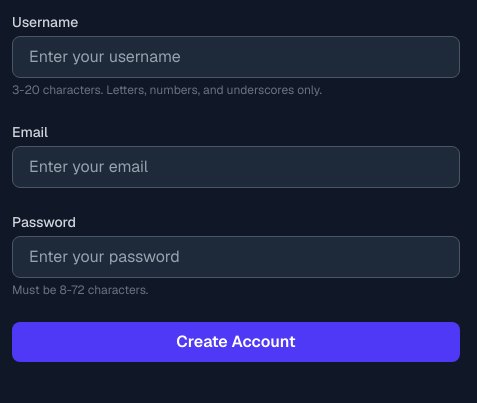
Scenario: RegisterForm › displays username-specific error from a 409 server response
Type "takenuser" into the field labelled "Username" at (236, 57), box left=12, top=36, right=460, bottom=78
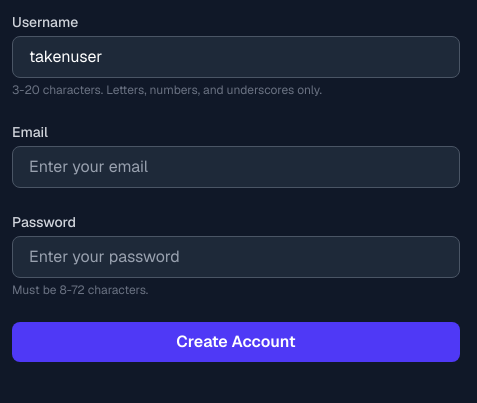
Type "new@example.com" into the field labelled "Email" at (236, 167), box left=12, top=146, right=460, bottom=188
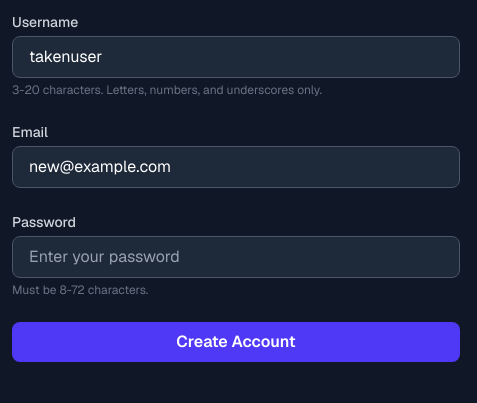
Type "password123" into the password field labelled "Password" at (236, 257), box left=12, top=236, right=460, bottom=278
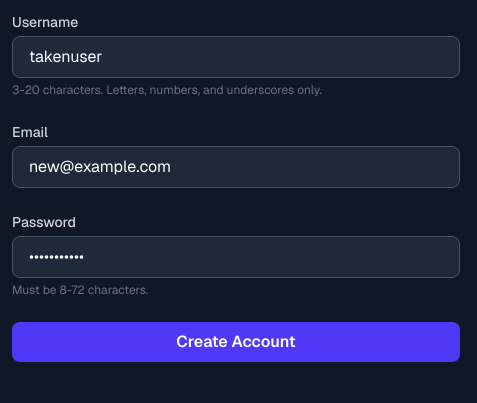
Click the button "Create Account" at (236, 342), box left=12, top=322, right=460, bottom=362
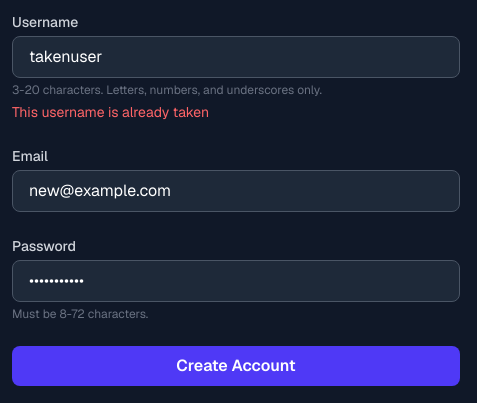
Now the text "This username is already taken" is shown, box left=12, top=103, right=209, bottom=121
